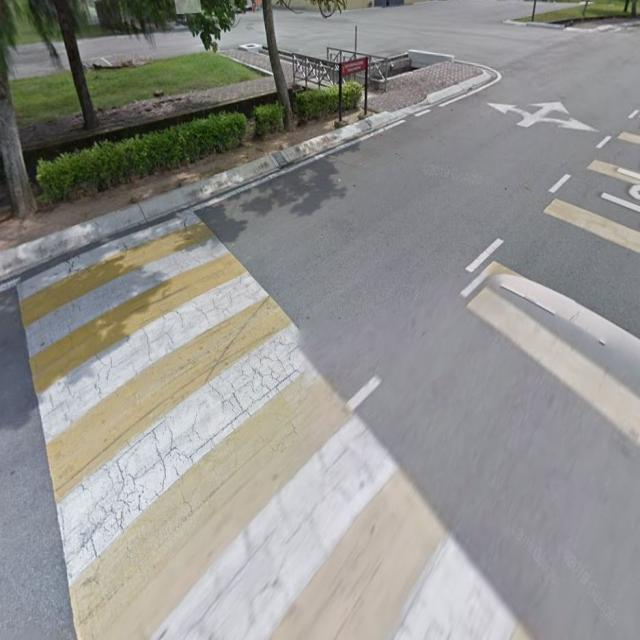speed-bump: (6, 232, 609, 640)
